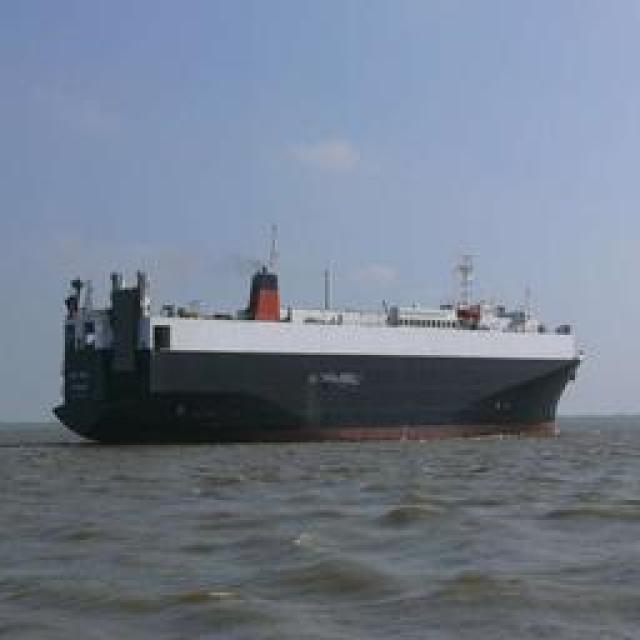CIV_Ship: (55, 242, 583, 436)
